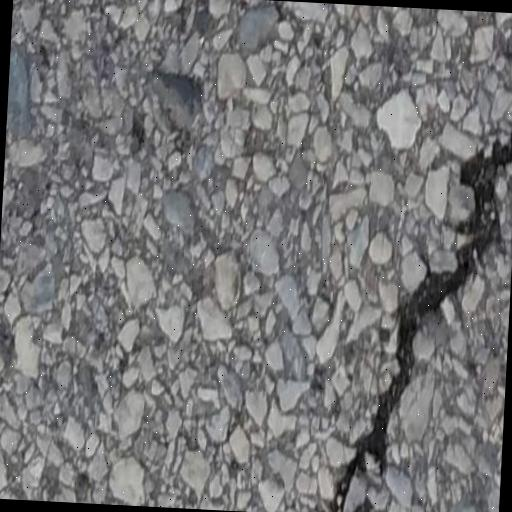spalling: (325, 111, 512, 512)
